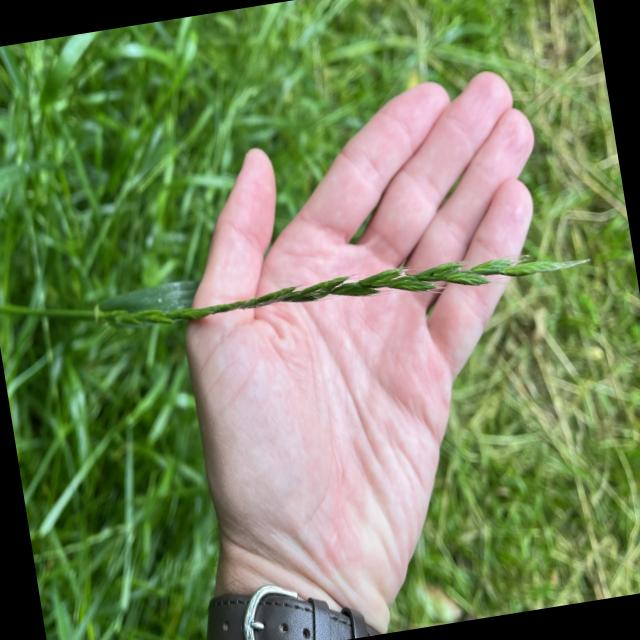Lolium: (100, 240, 589, 348)
